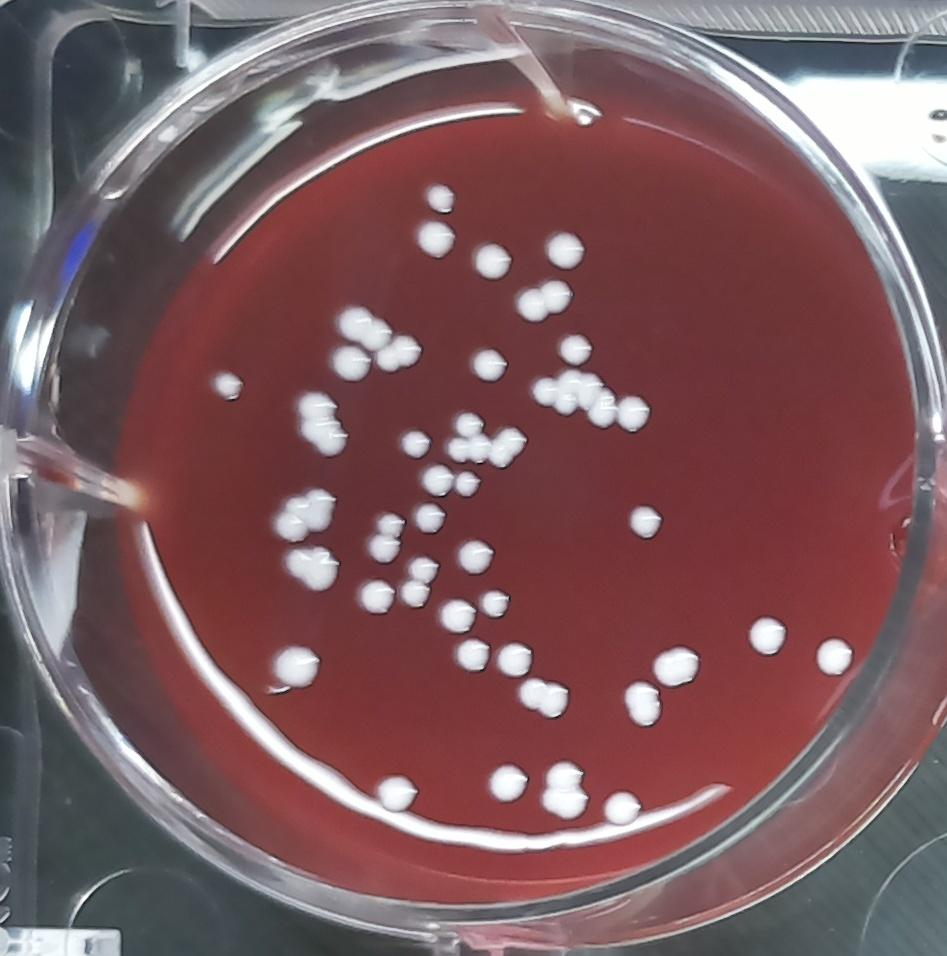staphylo-: (527, 365, 616, 433), (269, 483, 339, 543), (296, 387, 351, 460), (445, 423, 529, 470), (535, 757, 592, 825), (265, 635, 329, 690), (512, 277, 580, 325), (279, 542, 343, 593), (333, 299, 395, 351), (742, 605, 795, 664), (512, 673, 571, 723), (646, 639, 706, 688), (810, 629, 859, 684), (398, 552, 441, 609), (620, 677, 666, 729), (364, 508, 407, 563), (597, 782, 644, 832), (468, 236, 515, 285), (408, 216, 459, 261), (371, 769, 422, 814), (624, 498, 670, 545), (483, 758, 530, 804), (326, 342, 374, 387), (544, 226, 591, 271), (375, 333, 425, 374), (454, 534, 498, 579), (496, 638, 539, 683), (355, 574, 397, 618), (449, 635, 494, 675), (470, 345, 511, 387), (434, 598, 479, 635), (555, 329, 596, 368), (617, 390, 653, 434), (407, 500, 449, 537), (208, 365, 244, 404), (415, 462, 455, 497), (449, 408, 487, 442), (478, 584, 513, 620), (426, 180, 459, 217), (398, 427, 433, 461), (452, 470, 485, 502)
